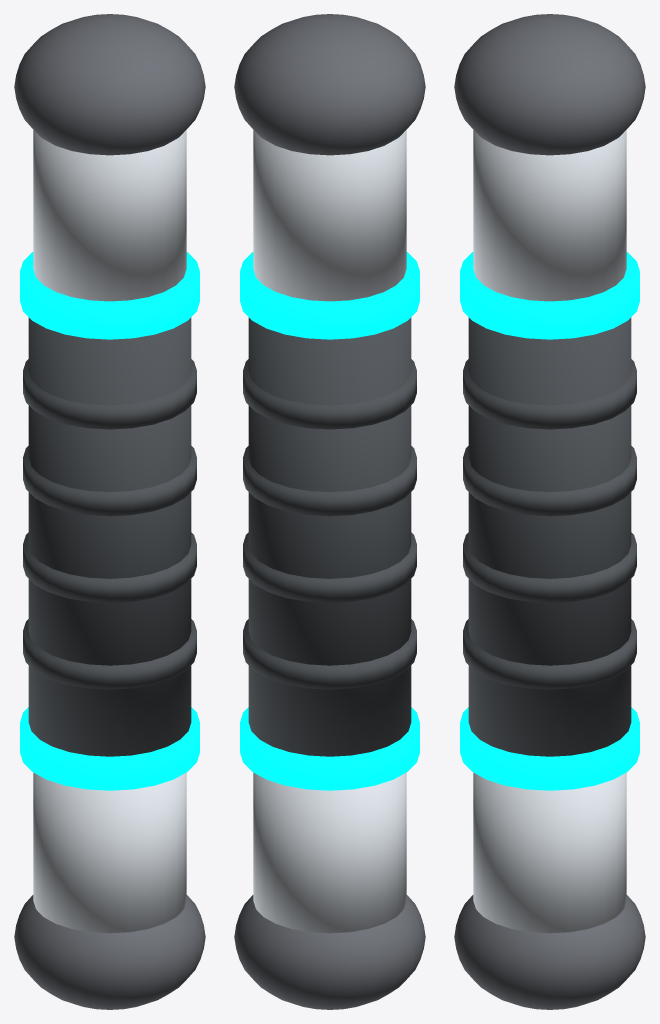
Rendered from CyberFetchBaton.fbx.
The picture shows the model from 3 angles, left to right: view 1: azimuth 30°, elevation 25°; view 2: azimuth 150°, elevation 25°; view 3: azimuth 270°, elevation 25°; orthographic projection.
Parts seen in each view (by area): view 1: CyberFetchBaton; view 2: CyberFetchBaton; view 3: CyberFetchBaton.
Boxes of the visible parts, box(x1,y1,x2,y2) form: CyberFetchBaton: box(14, 14, 205, 1009); CyberFetchBaton: box(234, 14, 425, 1009); CyberFetchBaton: box(454, 14, 645, 1009).
Size of the model in its own units: 4 by 22.4 by 4.
